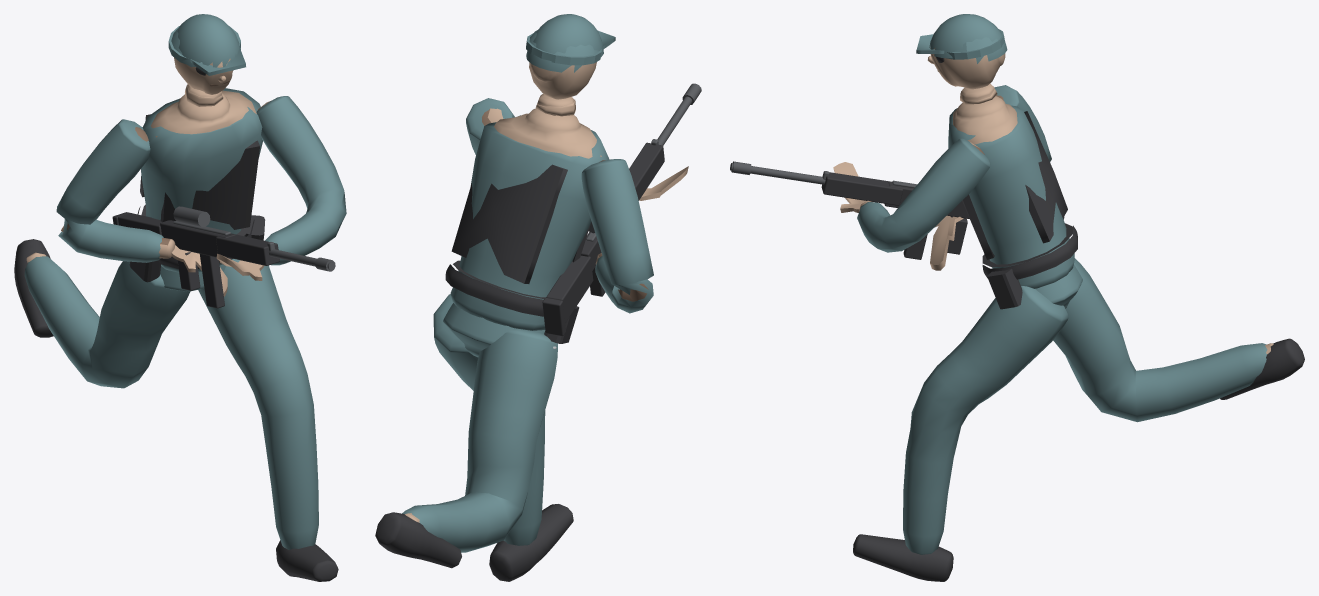
Rendered from tactical-shooter-hill-town-patrol-officer-running-0dfe67ff__27566.glb.
The picture shows the model from 3 angles, left to right: view 1: azimuth 30°, elevation 25°; view 2: azimuth 150°, elevation 25°; view 3: azimuth 270°, elevation 25°; orthographic projection. The views are drawn at different scales.
Visible parts, largest first — view 1: patrol-officer-running; view 2: patrol-officer-running; view 3: patrol-officer-running.
Part boxes in pixels (x1=…): patrol-officer-running: x1=14, y1=14, x2=346, y2=581; patrol-officer-running: x1=375, y1=14, x2=701, y2=581; patrol-officer-running: x1=730, y1=14, x2=1304, y2=581.
Size of the model in its own units: 0.6711 by 1.64 by 1.6.
